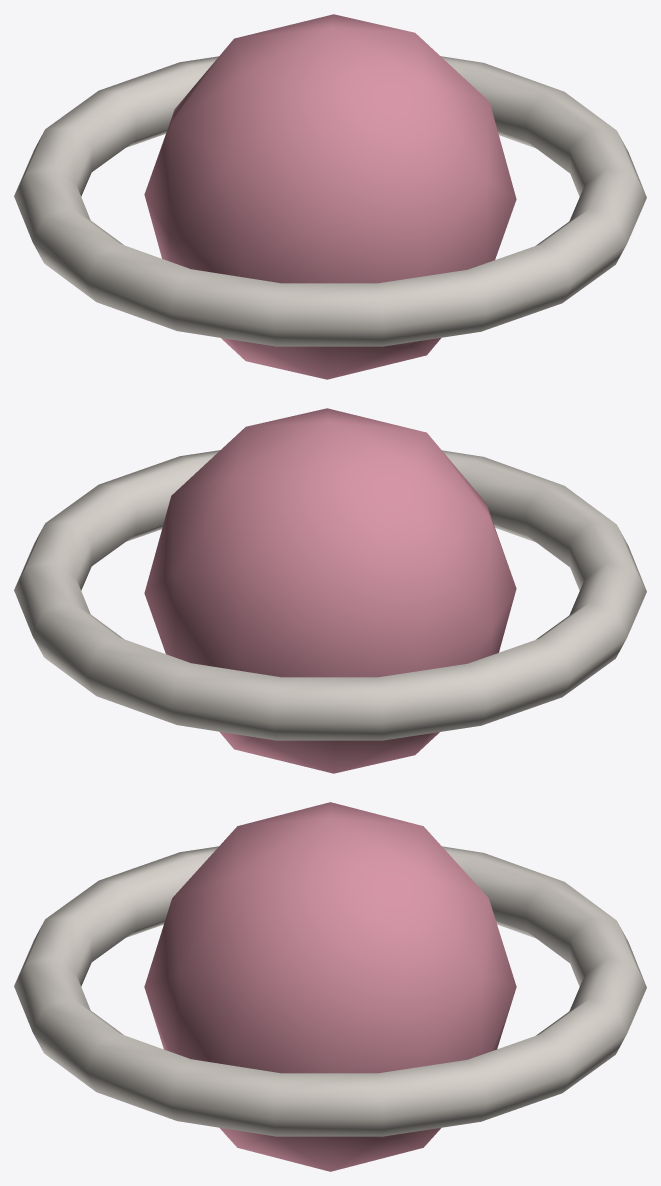
The model's file is skill.glb.
3 renders of one model, top to bottom at view 1: azimuth 30°, elevation 25°; view 2: azimuth 150°, elevation 25°; view 3: azimuth 270°, elevation 25°, orthographic.
Visible parts, largest first — view 1: skill_core, skill_ring; view 2: skill_core, skill_ring; view 3: skill_core, skill_ring.
Part boxes in pixels (x1,y1,x2,y2): skill_core: [144, 14, 516, 379]; skill_ring: [14, 56, 646, 346]; skill_core: [144, 408, 516, 773]; skill_ring: [14, 450, 646, 740]; skill_core: [144, 802, 516, 1171]; skill_ring: [14, 846, 646, 1136].
Size of the model in its own units: 0.6703 by 0.4 by 0.68.
